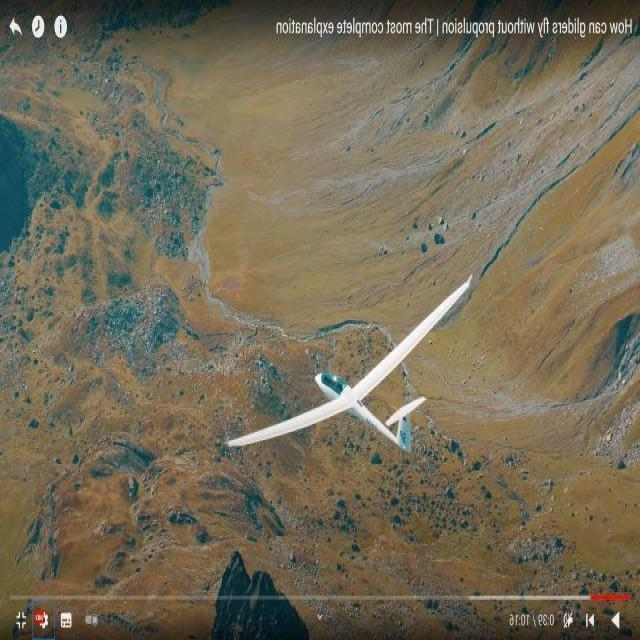iha: (203, 263, 481, 472)
